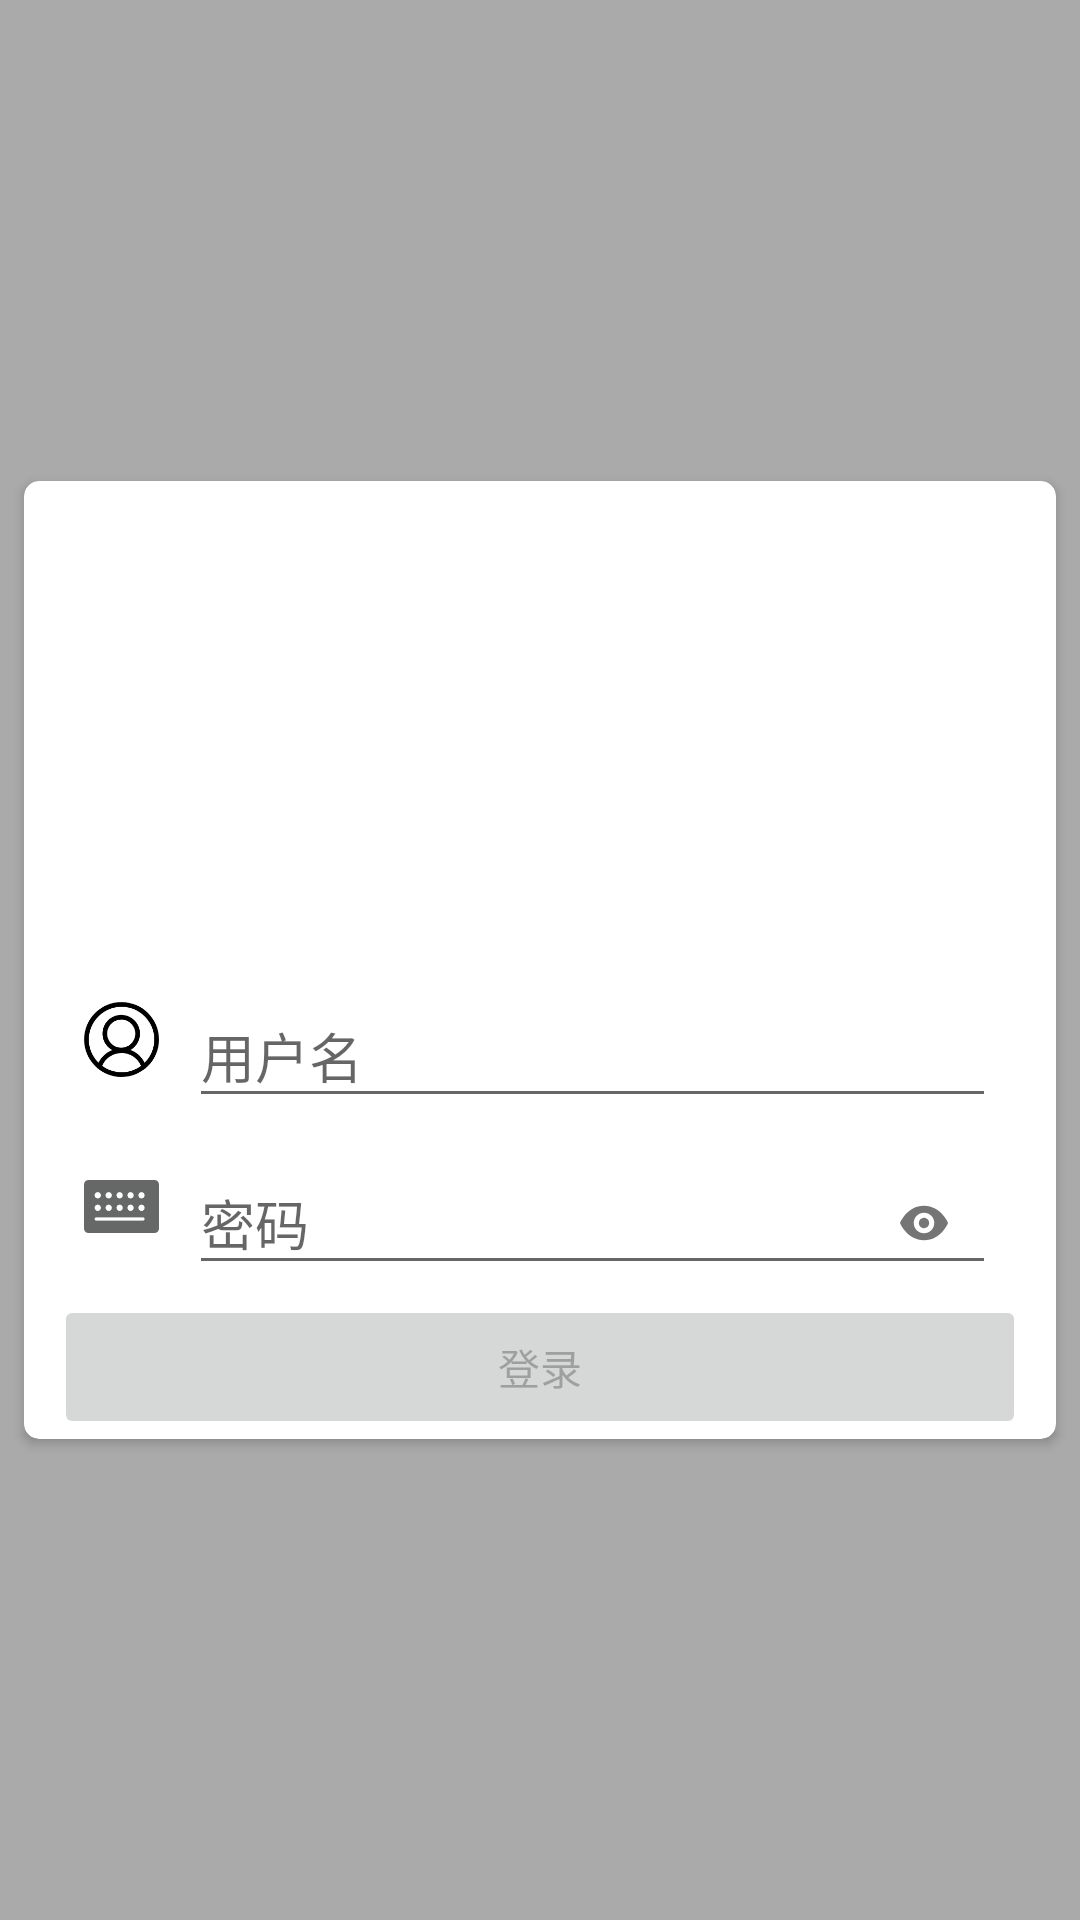

Named icons in this screenshot (1080*1920) and their centers, (x=x, y=y):
login password: (x=121, y=1206)
login user: (x=121, y=1039)
